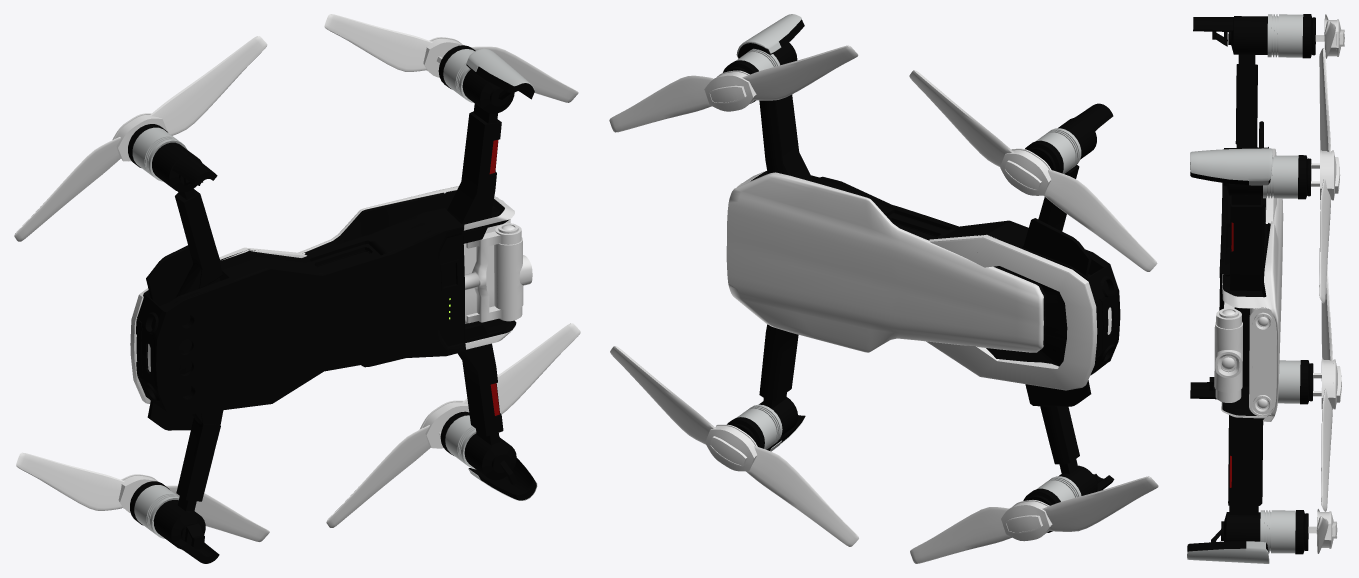
File: air.gltf
3 renders of one model, left to right at view 1: azimuth 30°, elevation 25°; view 2: azimuth 150°, elevation 25°; view 3: azimuth 270°, elevation 25°, orthographic. The views are drawn at different scales.
Parts seen in each view (by area): view 1: body, cube, upCover, rightBack, leftFront, leftBack, rightFront, downCover; view 2: upCover, cube, body, downCover, rightBack, leftFront, rightFront, leftBack; view 3: cube, upCover, body, rightFront, leftBack, rightBack, leftFront, downCover.
Boxes of the visible parts, x1,y1,x2,y2 form: body: (136, 190, 516, 430); cube: (128, 45, 537, 563); upCover: (298, 186, 532, 367); rightBack: (14, 36, 267, 241); leftFront: (326, 323, 580, 527); leftBack: (16, 452, 269, 541); rightFront: (324, 14, 578, 102); downCover: (130, 247, 306, 403); upCover: (726, 170, 1043, 352); cube: (723, 14, 1114, 532); body: (750, 171, 1120, 406); downCover: (926, 234, 1097, 390); rightBack: (909, 70, 1157, 271); leftFront: (610, 346, 858, 546); rightFront: (609, 45, 858, 132); leftBack: (910, 476, 1158, 563); cube: (1187, 14, 1315, 563); upCover: (1214, 198, 1283, 421); body: (1219, 121, 1270, 419); rightFront: (1311, 48, 1340, 303); leftBack: (1313, 264, 1341, 511); rightBack: (1315, 14, 1344, 58); leftFront: (1308, 509, 1337, 553); downCover: (1265, 148, 1276, 223).
Size of the model in its own units: 7.31 by 6.37 by 1.83.
2 materials, 2 textured.
